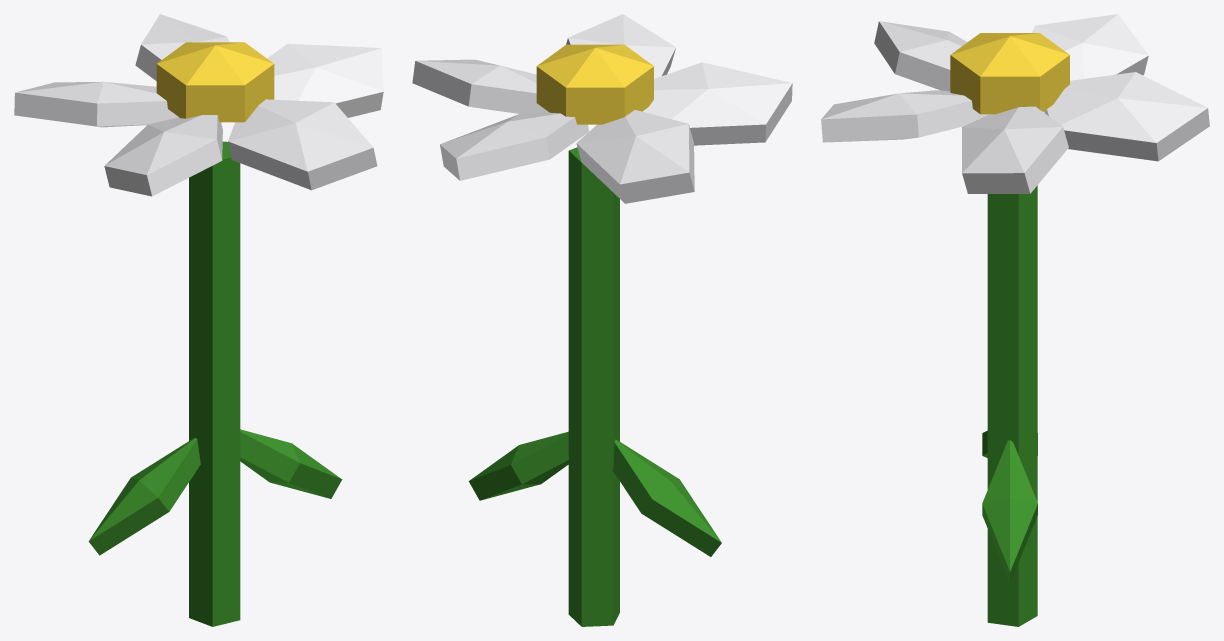
File: flower_white.glb
The picture shows the model from 3 angles, left to right: view 1: azimuth 30°, elevation 25°; view 2: azimuth 150°, elevation 25°; view 3: azimuth 270°, elevation 25°; orthographic projection.
Visible parts, largest first — view 1: Cylinder; view 2: Cylinder; view 3: Cylinder.
Part boxes in pixels (left/top/right/bottom): Cylinder: left=14, top=14, right=383, bottom=626; Cylinder: left=412, top=14, right=792, bottom=626; Cylinder: left=821, top=14, right=1209, bottom=626.
Size of the model in its own units: 0.2477 by 0.417 by 0.2535.
